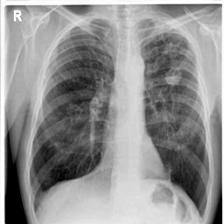tuberculosis: (26, 13, 212, 224)
